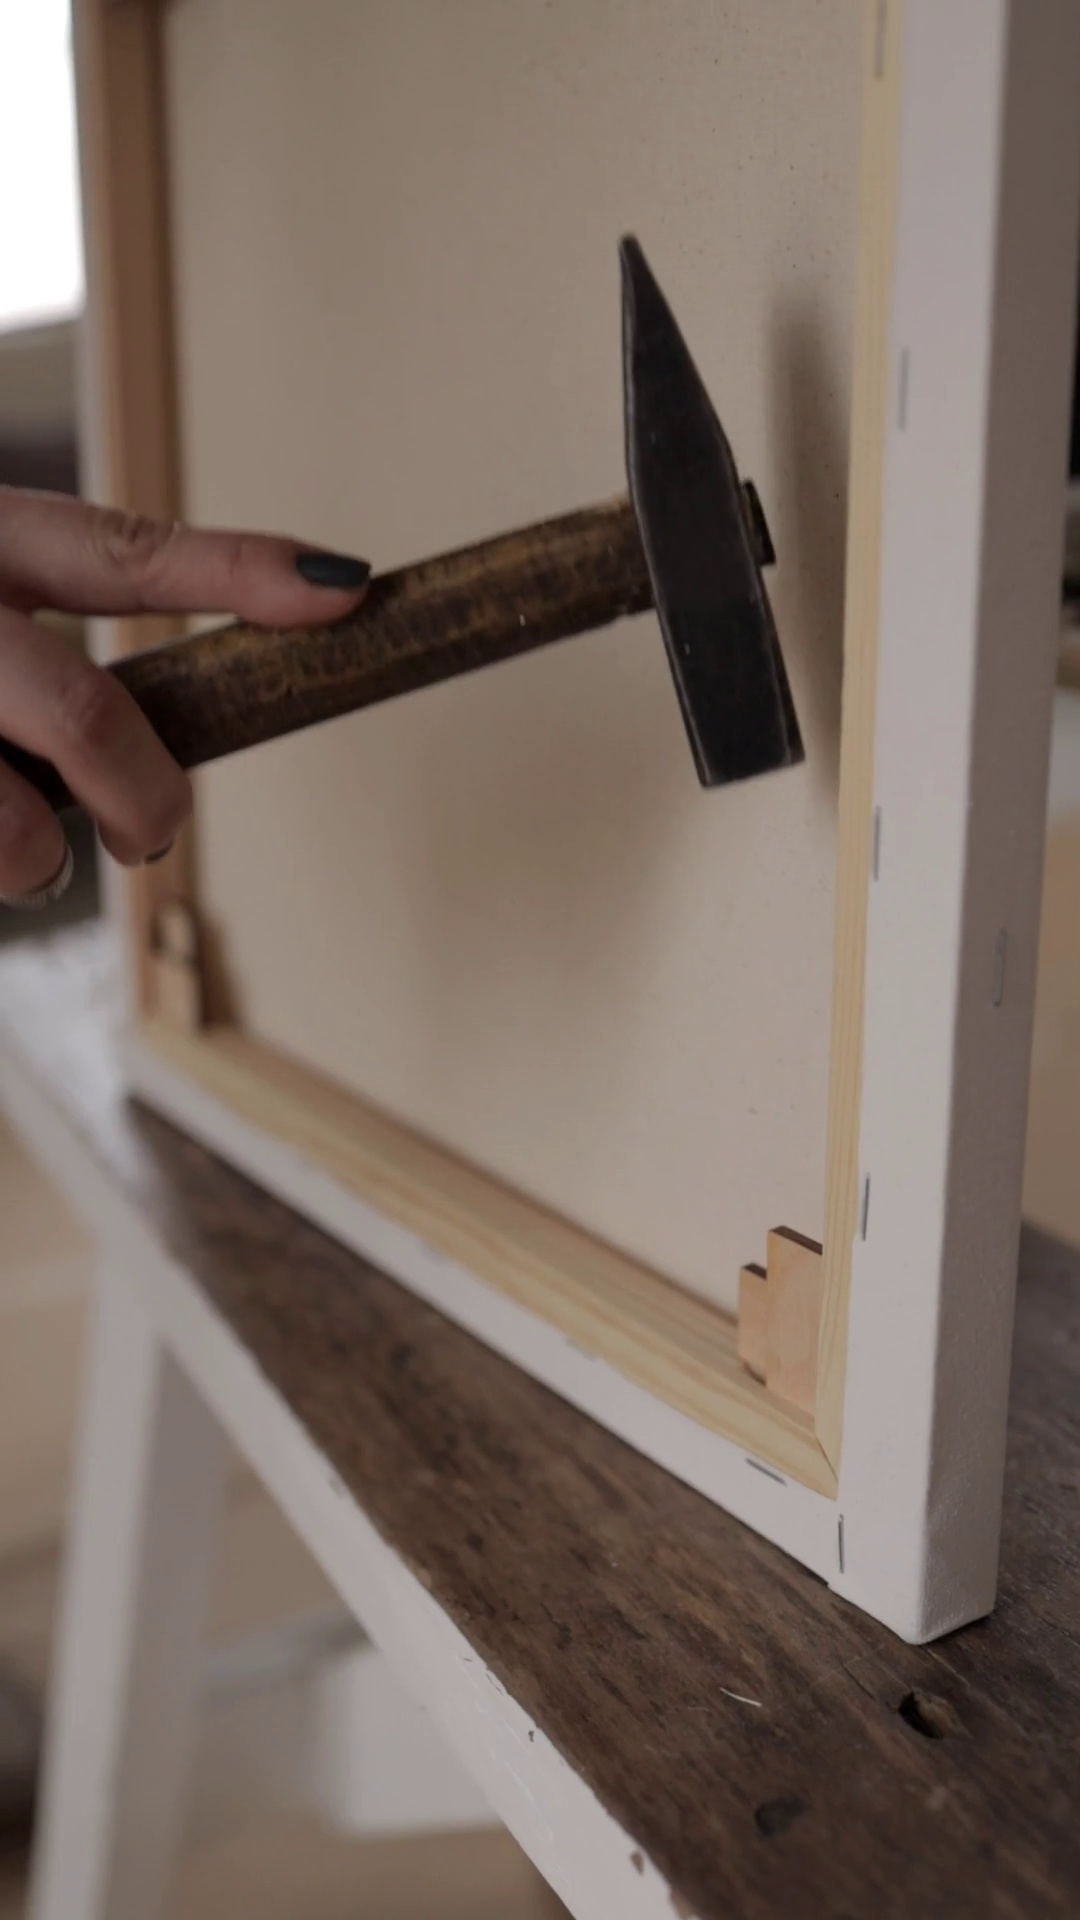hammer: (12, 225, 810, 957)
